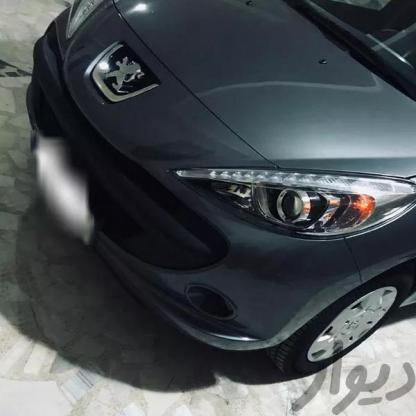Car: (9, 0, 416, 385)
